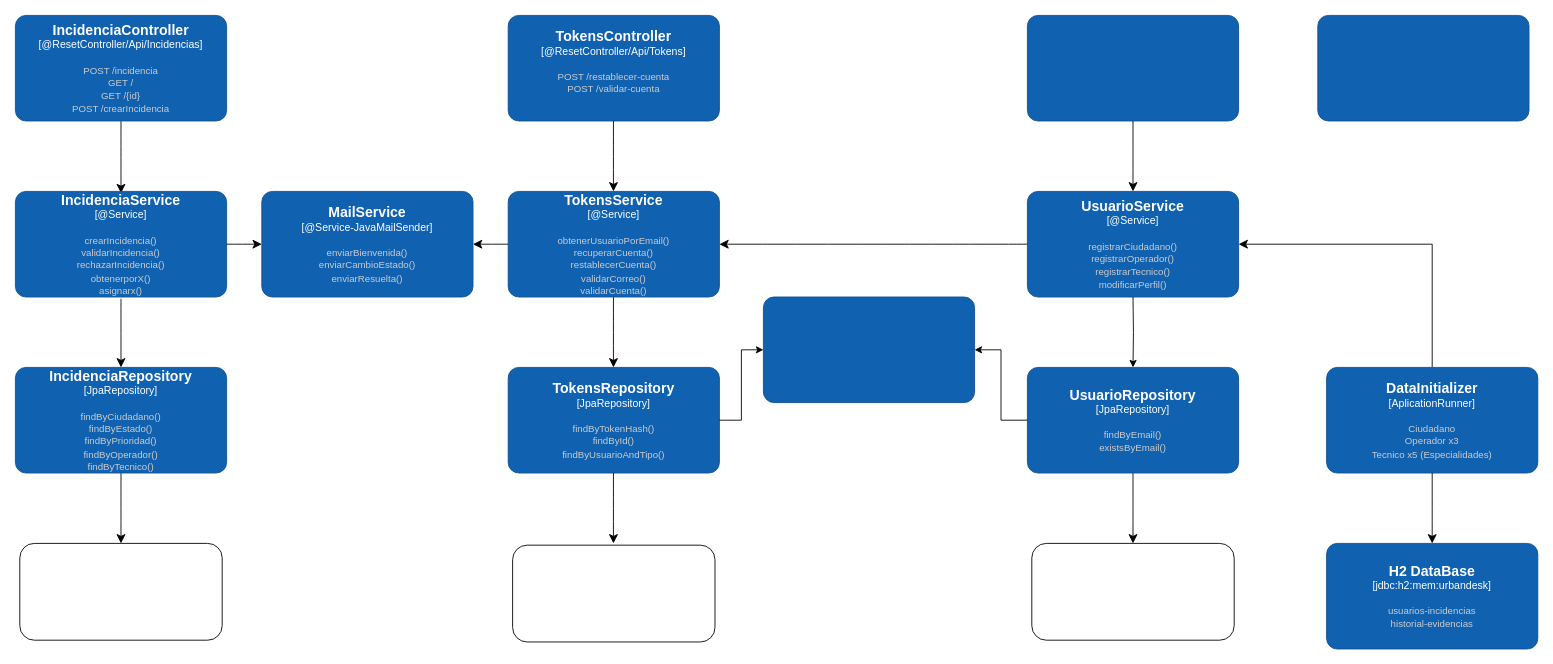
Image size: 1553x664. Some labels were removed from this diagram. Each missing label, with the centre of its shape:
"CleanupService [@Service] cleanupExpiredTokensAndUnvalidatedUsers()" goes at point 869,349.
"Domain Incidencia Incidencia-Ubicación Historial-Evidencia Estado-Prioridad" goes at point 120,591.
"Domain Tokens Tipo Tokens" goes at point 613,593.
"Domain User Usuario-Ciudadano Operador-Tecnico Rol-Especialidad enum" goes at point 1132,591.
"SecurityConfig [Basic Auth-BCrypt-CORS] CustomUserDetailsService" goes at point 1423,68.
"UsuarioController [@ResetController/Api/usuarios] POST /regstro POST /login" goes at point 1133,68.
